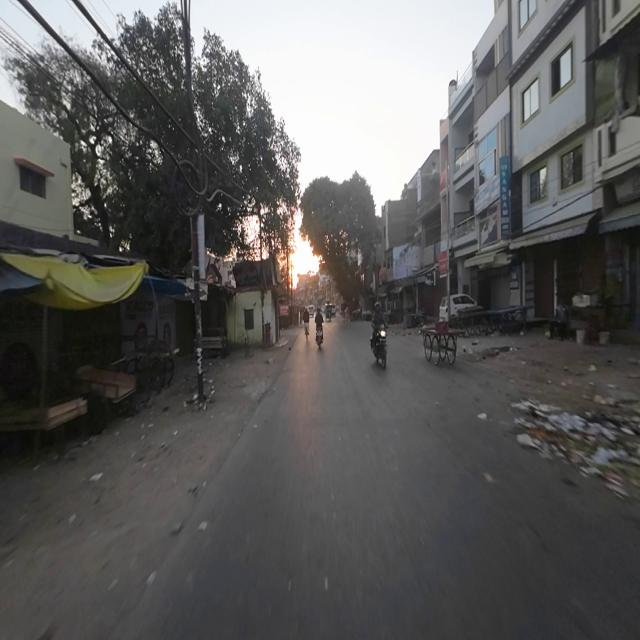Garbage: (513, 384, 640, 480)
